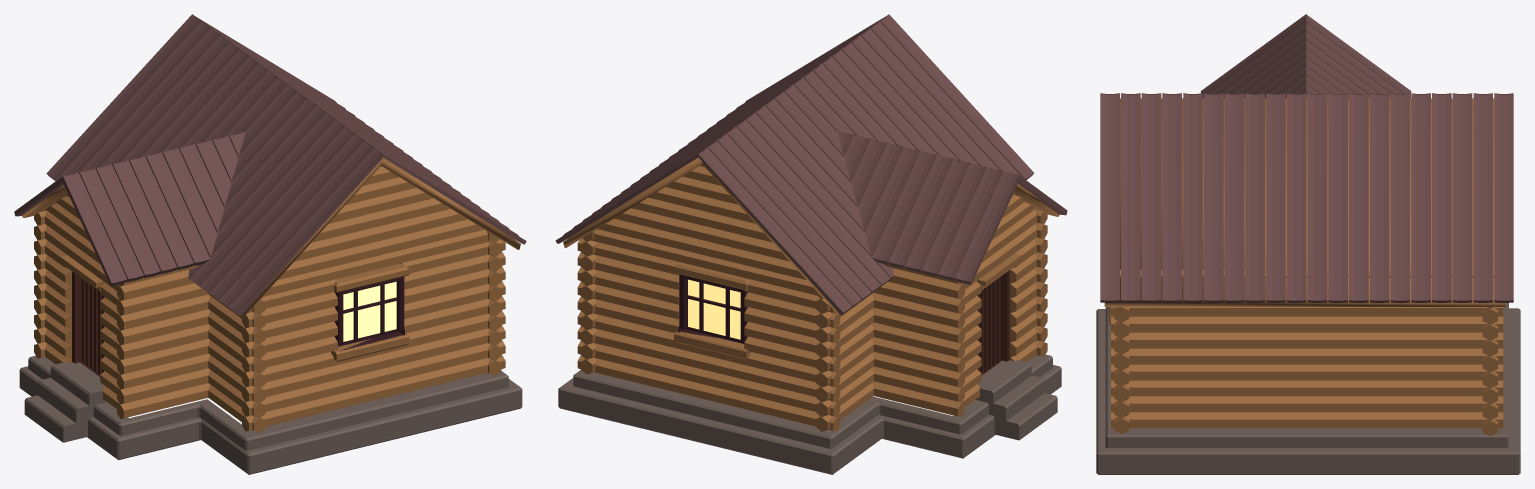
File: house_wood_1f_1x1.glb
The picture shows the model from 3 angles, left to right: view 1: azimuth 30°, elevation 25°; view 2: azimuth 150°, elevation 25°; view 3: azimuth 270°, elevation 25°; orthographic projection. The views are drawn at different scales.
Visible parts, largest first — view 1: w1F1to1; view 2: w1F1to1; view 3: w1F1to1.
Boxes of the visible parts, box(x1,y1,x2,y2) form: w1F1to1: box(14, 14, 526, 474); w1F1to1: box(555, 14, 1067, 474); w1F1to1: box(1096, 14, 1520, 474).
Bounding box in the file's own units: 8.8 × 6.22 × 7.72.
